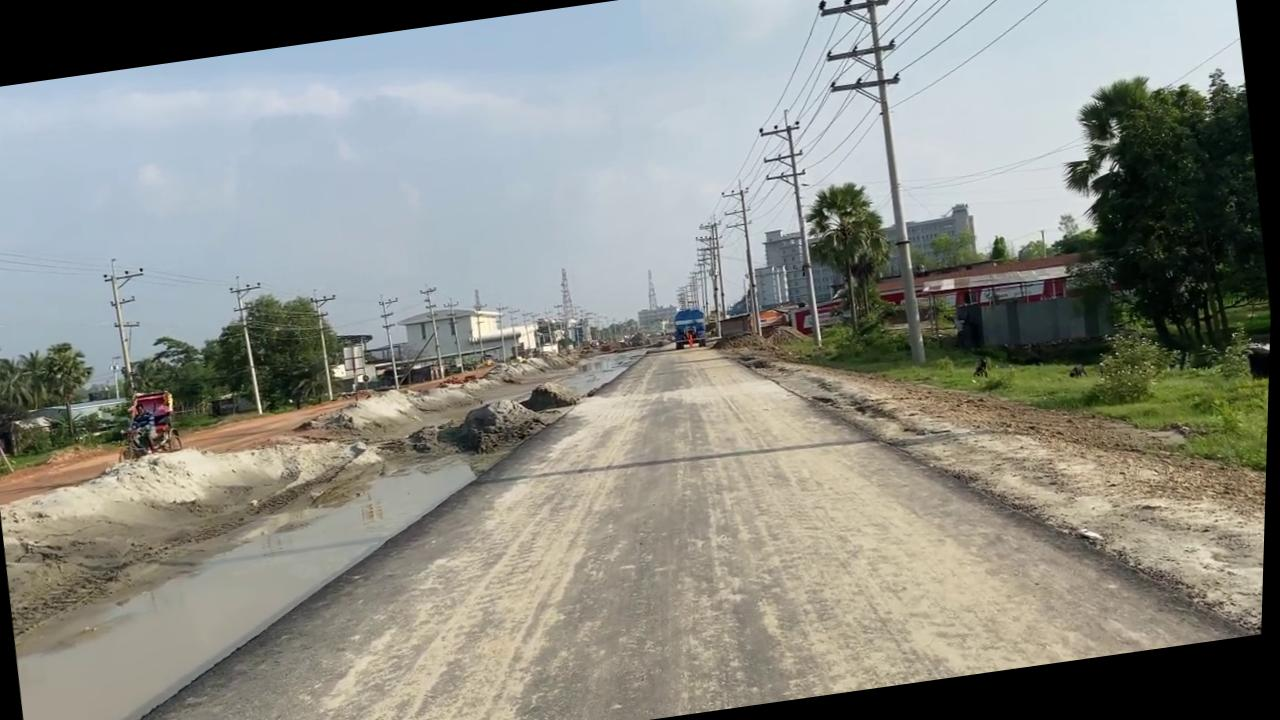Dog: (971, 354, 992, 378), (1068, 362, 1090, 379)
Pole: (804, 0, 943, 371), (751, 106, 834, 352)
Railroad-crossing: (112, 386, 187, 462)
Sidewalk: (0, 338, 695, 720)
Traffic-sign: (1039, 58, 1279, 380), (797, 175, 904, 340)
Tree: (671, 305, 710, 349)
